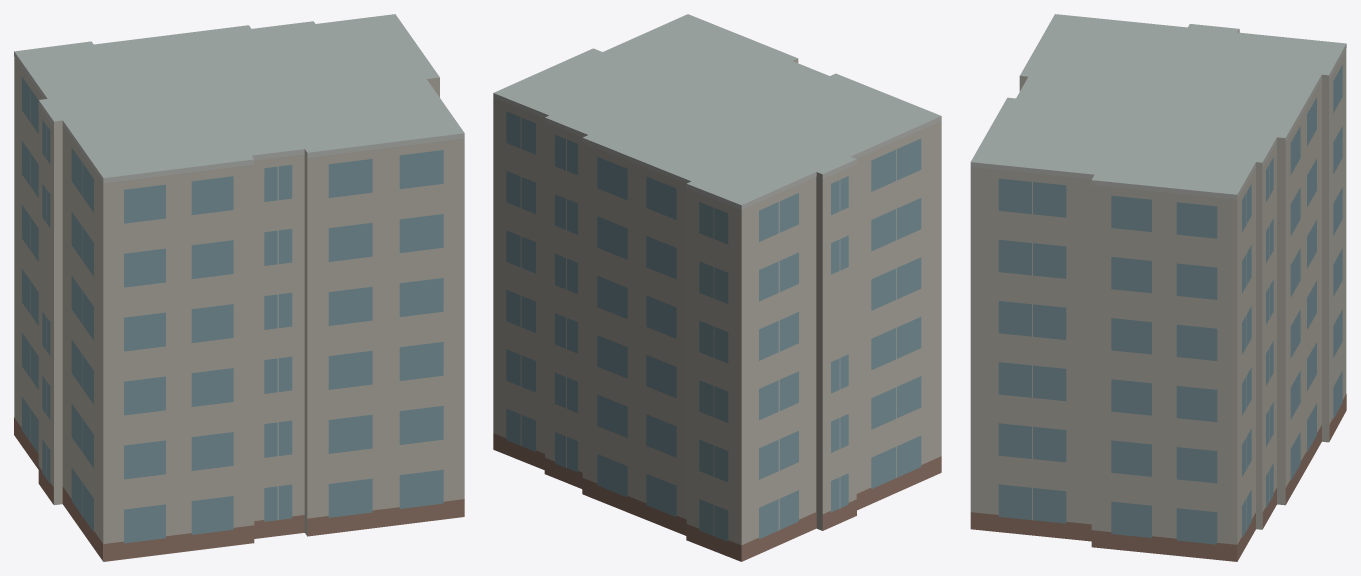
Rendered from survey-upis-32918193.glb.
The picture shows the model from 3 angles, left to right: view 1: azimuth 30°, elevation 25°; view 2: azimuth 150°, elevation 25°; view 3: azimuth 270°, elevation 25°; orthographic projection. The views are drawn at different scales.
Parts seen in each view (by area): view 1: survey-upis-32918193.tmp; view 2: survey-upis-32918193.tmp; view 3: survey-upis-32918193.tmp.
Part boxes in pixels (box(x1,y1,x2,y2)): survey-upis-32918193.tmp: box(14, 14, 464, 561); survey-upis-32918193.tmp: box(493, 14, 941, 561); survey-upis-32918193.tmp: box(970, 14, 1346, 561).
Size of the model in its own units: 19.34 by 18.3 by 16.99.
